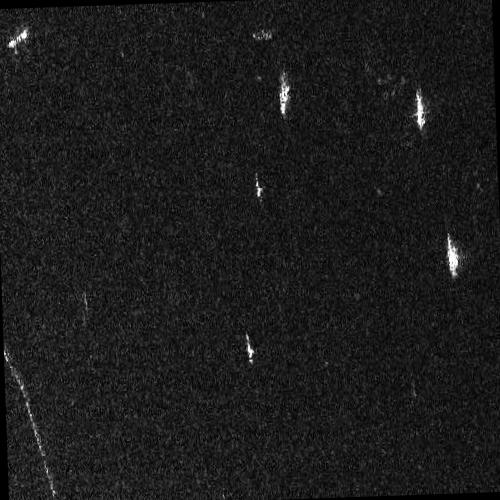ship: (446, 232, 460, 278), (278, 70, 290, 119), (6, 26, 29, 49), (414, 89, 426, 131), (245, 333, 254, 365), (255, 176, 262, 200)
